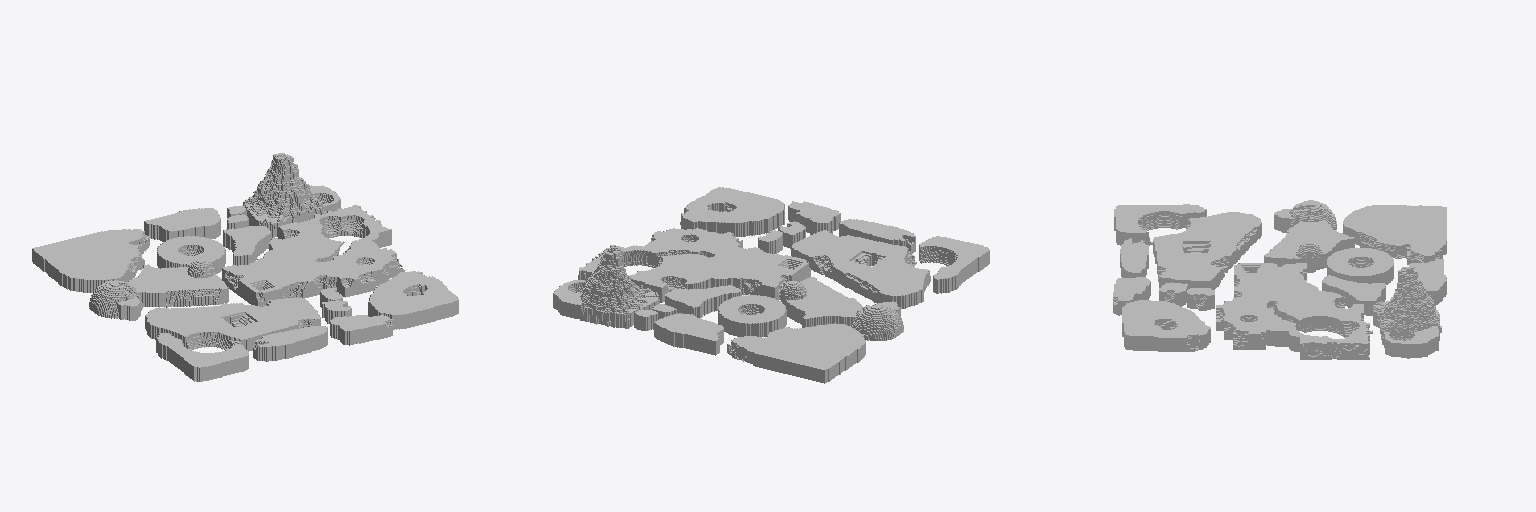
The model's file is LavaBiome 2.obj.
The picture shows the model from 3 angles: view 1: azimuth 30°, elevation 25°; view 2: azimuth 150°, elevation 25°; view 3: azimuth 270°, elevation 25°; orthographic projection.
Visible parts, largest first — view 1: object 1; view 2: object 1; view 3: object 1.
Boxes of the visible parts, x1=… form: object 1: x1=32, y1=153, x2=458, y2=381; object 1: x1=553, y1=187, x2=989, y2=383; object 1: x1=1113, y1=200, x2=1446, y2=359.
Bounding box in the file's own units: 25.6 × 5.4 × 25.3.